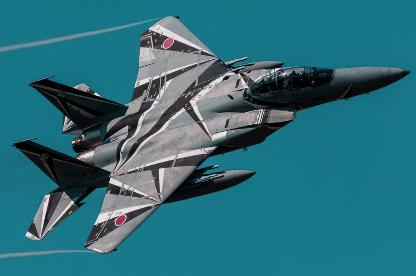F117: (13, 16, 411, 254)
